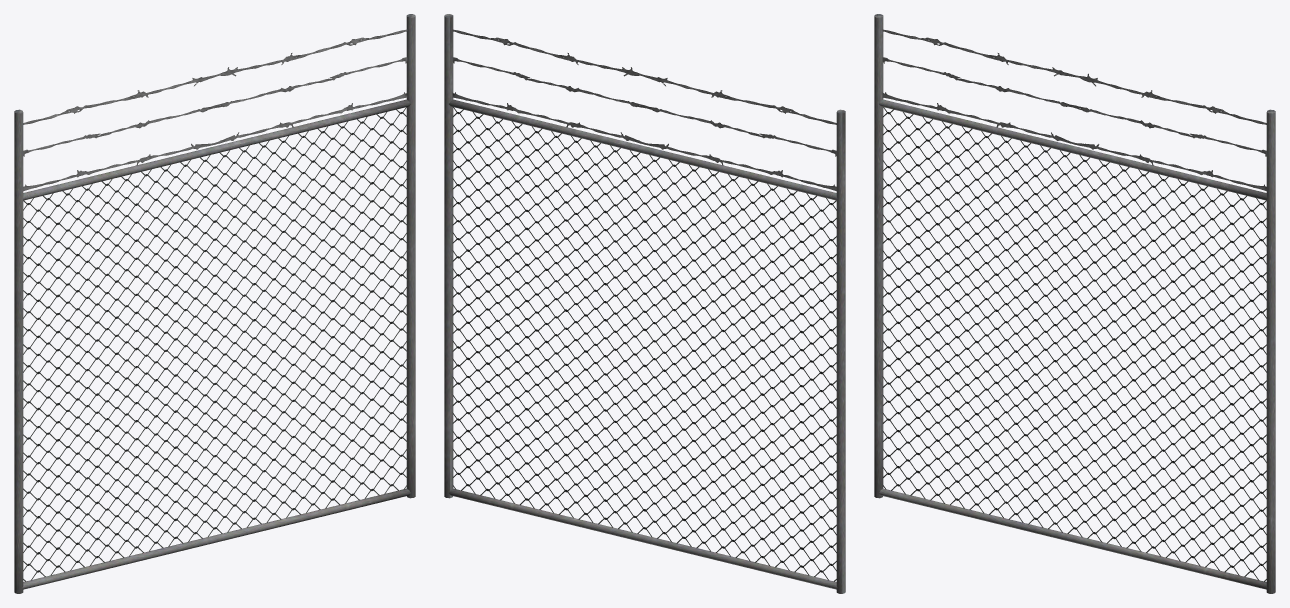
The model's file is fence_site_bws_sml-B.fbx.
3 views of the same model, side by side, from view 1: azimuth 30°, elevation 25°; view 2: azimuth 150°, elevation 25°; view 3: azimuth 330°, elevation 25° (orthographic).
Parts seen in each view (by area): view 1: fence_site_bws_sml-B; view 2: fence_site_bws_sml-B; view 3: fence_site_bws_sml-B.
Part boxes in pixels (x1=…): fence_site_bws_sml-B: x1=14, y1=14, x2=415, y2=593; fence_site_bws_sml-B: x1=444, y1=14, x2=845, y2=593; fence_site_bws_sml-B: x1=874, y1=14, x2=1275, y2=593.
Bounding box in the file's own units: 2.05 × 2.35 × 0.0408.
